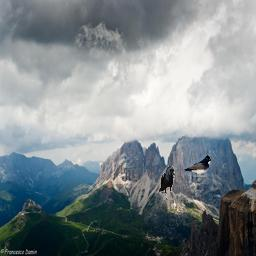Crow: (159, 166, 175, 200)
Swallow: (183, 155, 211, 177)
